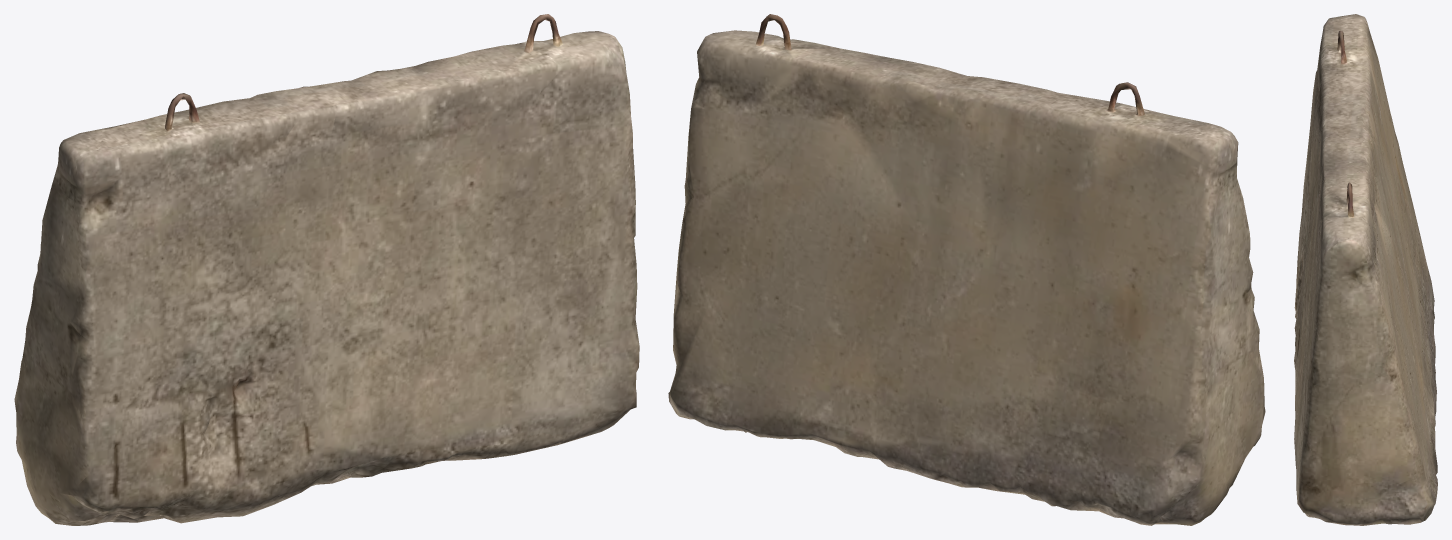
Rendered from concrete_road_barrier_02.glb.
3 views of the same model, side by side, from view 1: azimuth 30°, elevation 25°; view 2: azimuth 150°, elevation 25°; view 3: azimuth 270°, elevation 25° (orthographic). The views are drawn at different scales.
Parts seen in each view (by area): view 1: concrete_road_barrier_02; view 2: concrete_road_barrier_02; view 3: concrete_road_barrier_02.
Part boxes in pixels (left/top/right/bottom): concrete_road_barrier_02: left=14, top=14, right=639, bottom=525; concrete_road_barrier_02: left=668, top=14, right=1265, bottom=525; concrete_road_barrier_02: left=1294, top=14, right=1437, bottom=525.
Bounding box in the file's own units: 1.56 × 1.11 × 0.4378.
Materials: 1 (1 with a texture image).
